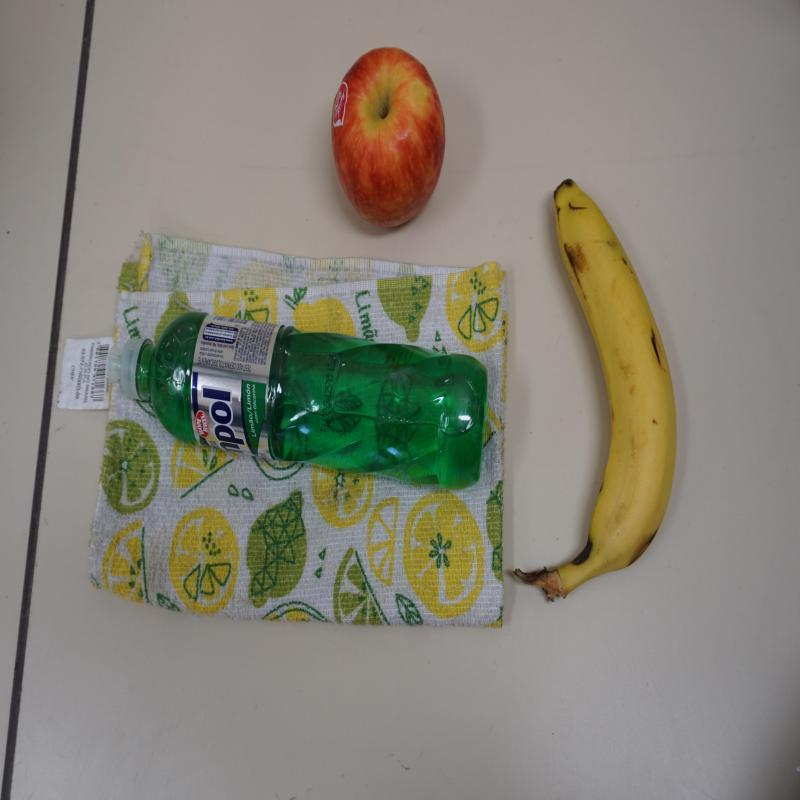Apple: (329, 47, 447, 236)
Banana: (526, 181, 680, 603)
Cleaner: (106, 312, 488, 490)
Cloth: (54, 234, 507, 630)
